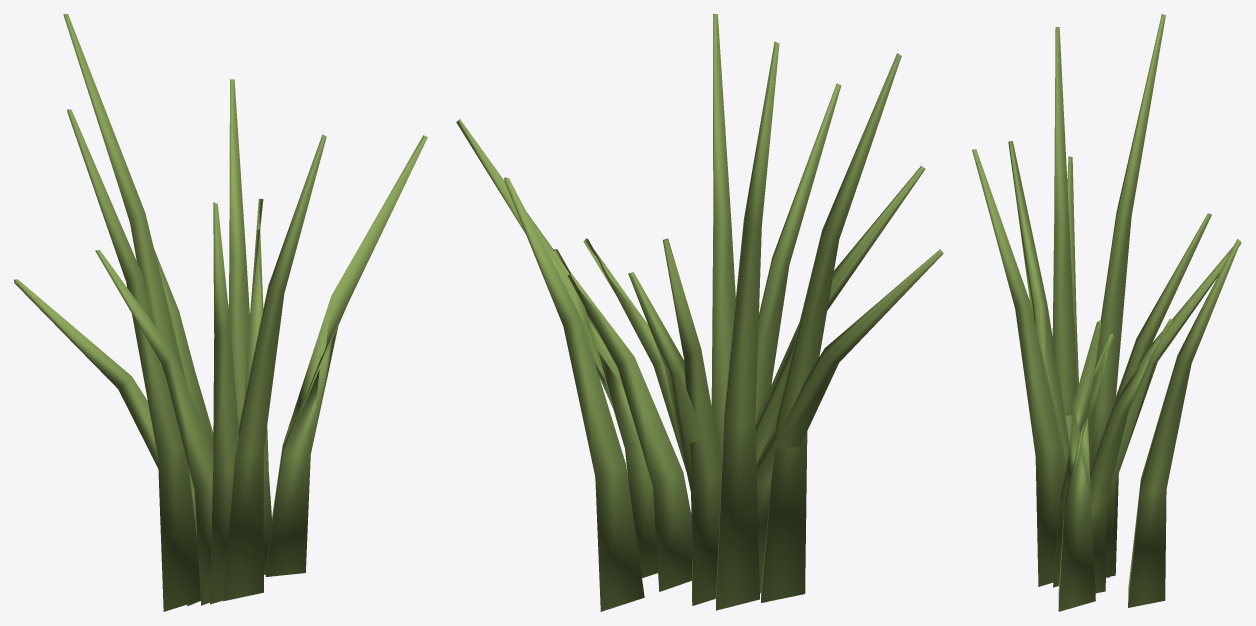
Rendered from grass_tuft.glb.
3 renders of one model, left to right at view 1: azimuth 30°, elevation 25°; view 2: azimuth 150°, elevation 25°; view 3: azimuth 270°, elevation 25°, orthographic. The views are drawn at different scales.
Visible parts, largest first — view 1: Grass_Tuft_Blades; view 2: Grass_Tuft_Blades; view 3: Grass_Tuft_Blades.
Part boxes in pixels (x1,y1,x2,y2): Grass_Tuft_Blades: [14, 14, 427, 611]; Grass_Tuft_Blades: [456, 14, 943, 611]; Grass_Tuft_Blades: [972, 14, 1241, 611].
Size of the model in its own units: 0.3313 by 0.4144 by 0.196.
